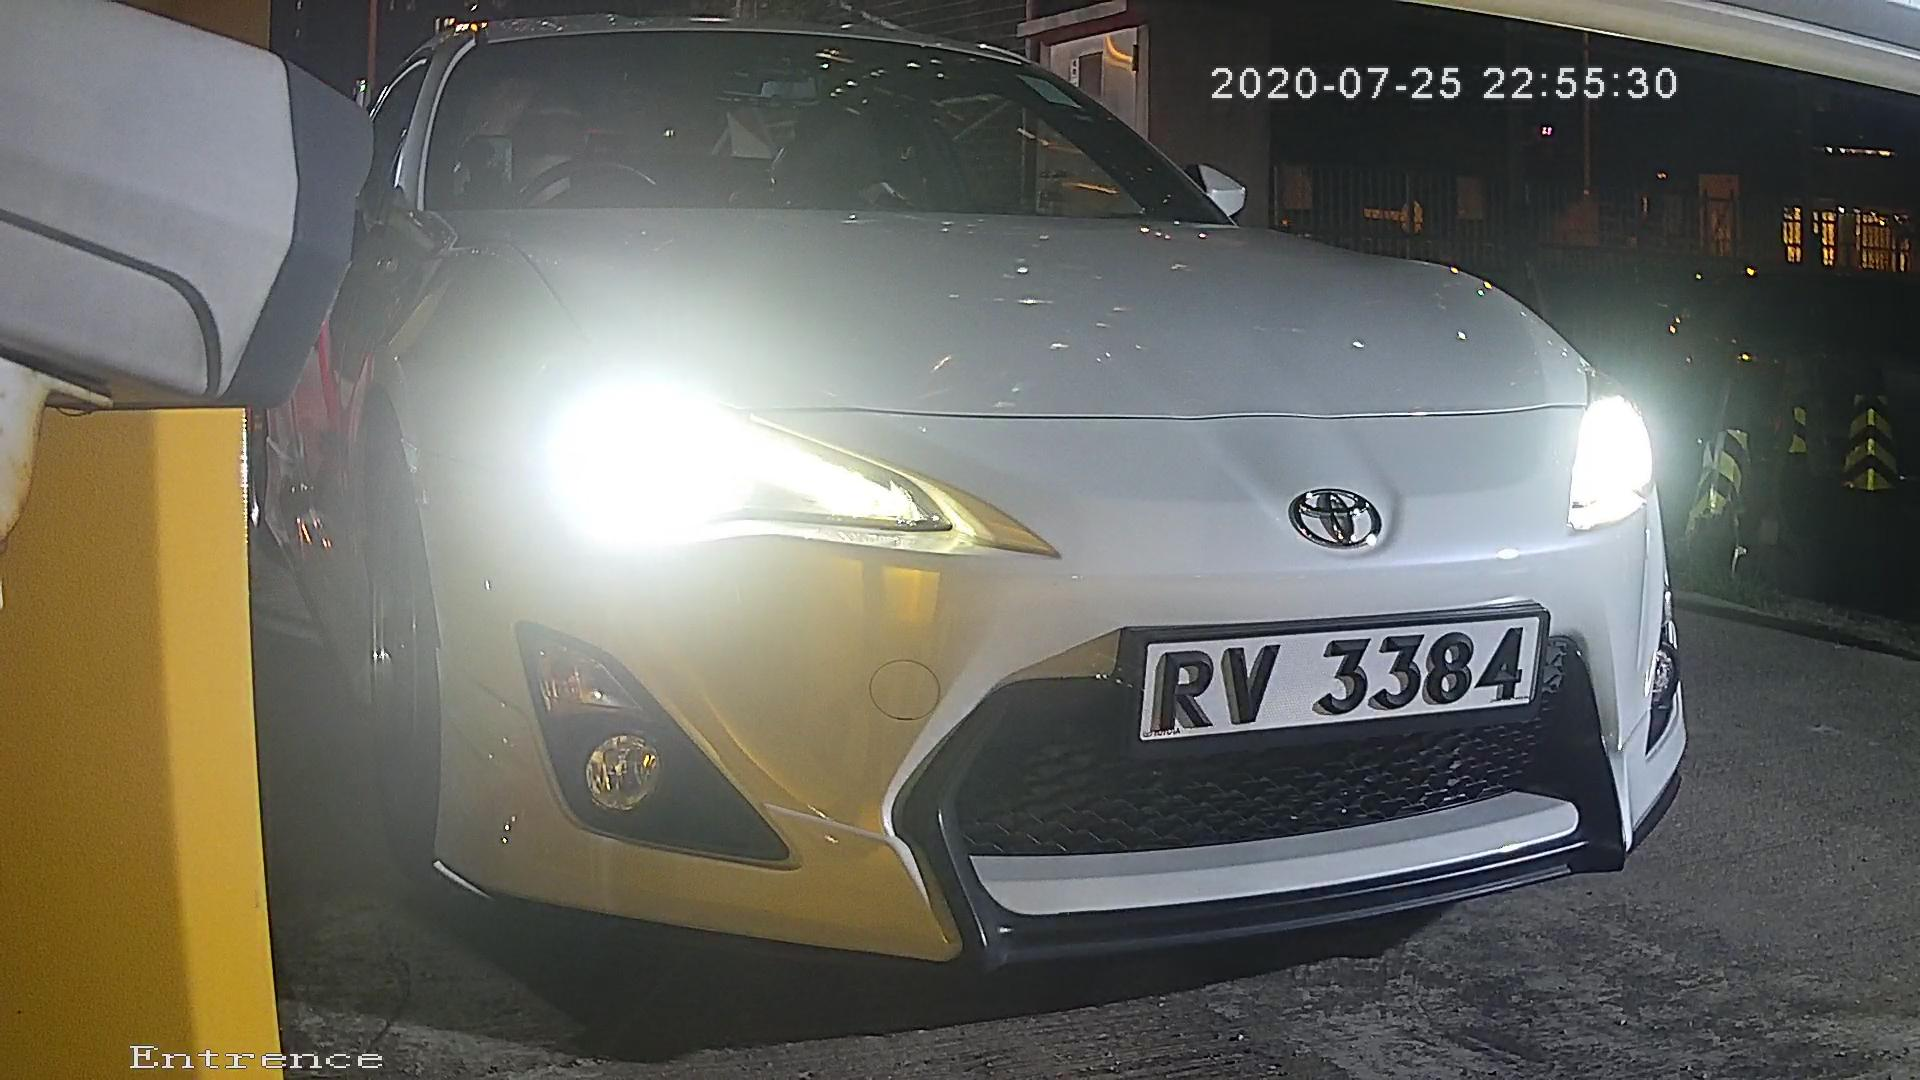Car: (121, 10, 1783, 1023)
License Plate: (1132, 603, 1552, 753)
